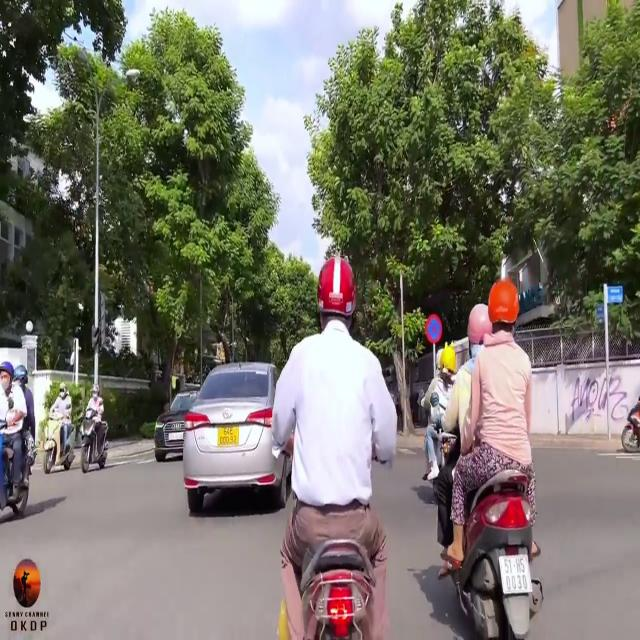bien_trang: (499, 555, 533, 597)
bien_vang: (215, 419, 240, 446)
